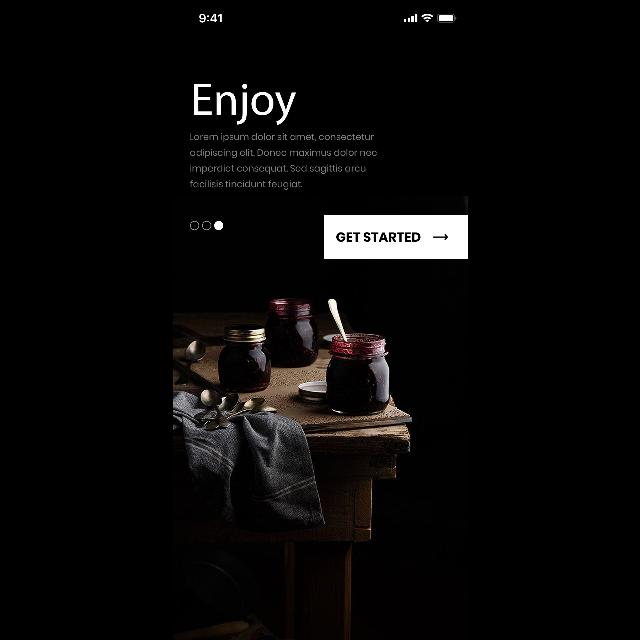backgroundimage: (172, 296, 468, 640)
pageindicator: (190, 222, 222, 230)
text: (190, 133, 376, 190), (194, 84, 296, 124)
textbutton: (323, 215, 467, 259)
uppertaskbar: (198, 14, 456, 24)
